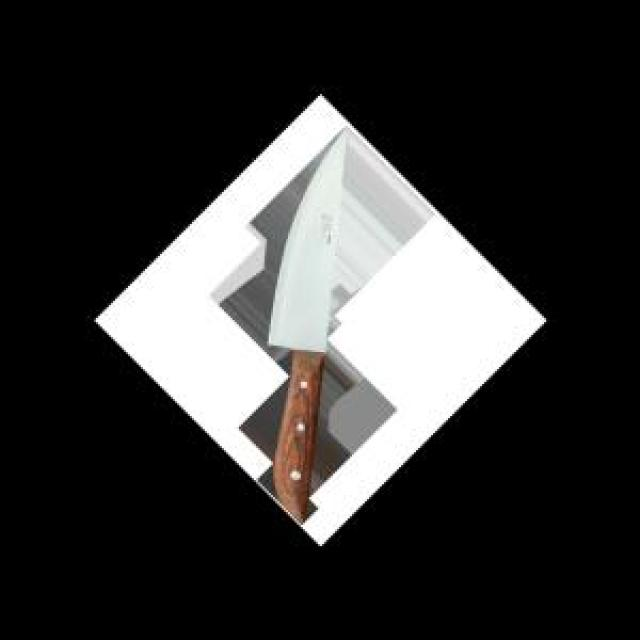knife: (271, 124, 350, 535)
